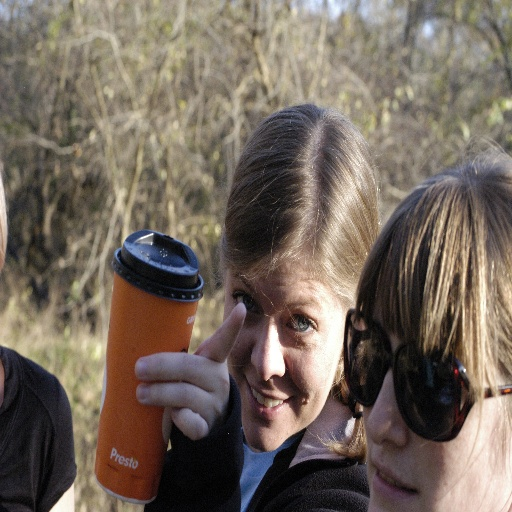hand: (133, 299, 247, 442)
